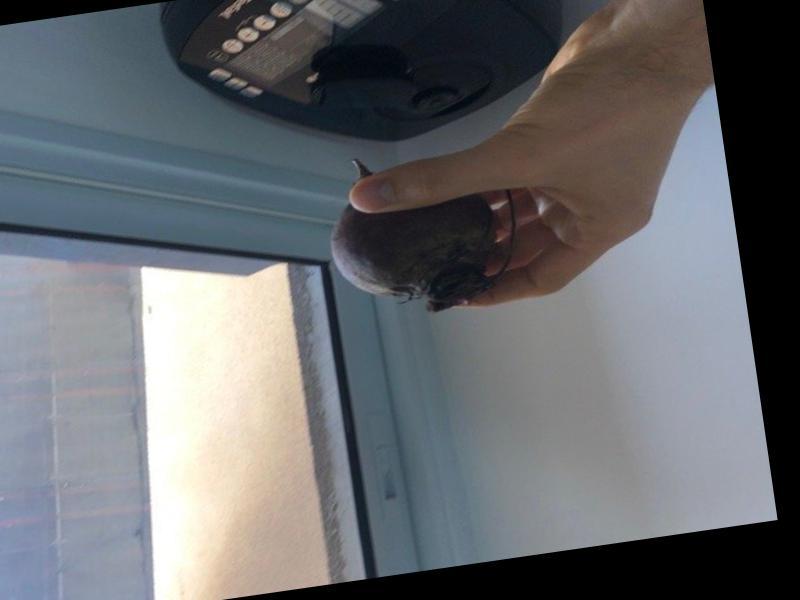Beet: (319, 138, 524, 325)
